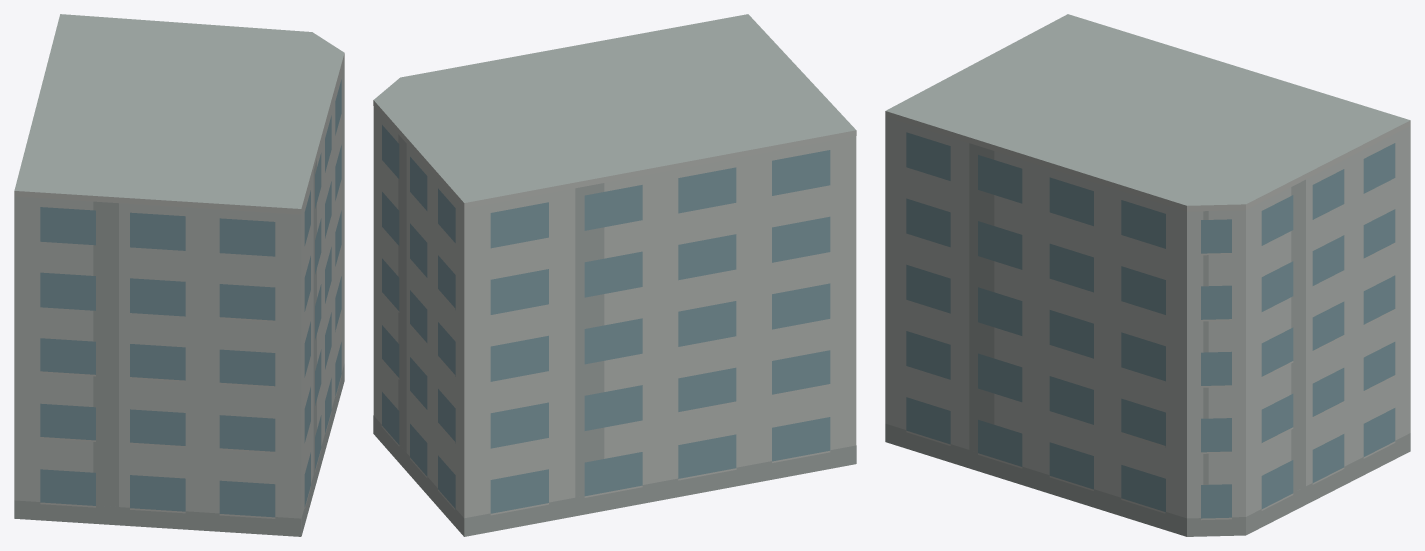
Rendered from survey-upis-32892473.glb.
The picture shows the model from 3 angles, left to right: view 1: azimuth 30°, elevation 25°; view 2: azimuth 150°, elevation 25°; view 3: azimuth 270°, elevation 25°; orthographic projection.
Visible parts, largest first — view 1: survey-upis-32892473.tmp; view 2: survey-upis-32892473.tmp; view 3: survey-upis-32892473.tmp.
Boxes of the visible parts, bbox=[...] form: survey-upis-32892473.tmp: bbox=[14, 14, 344, 536]; survey-upis-32892473.tmp: bbox=[373, 14, 856, 536]; survey-upis-32892473.tmp: bbox=[885, 14, 1410, 536].
Size of the model in its own units: 17.28 by 13.9 by 19.99.
